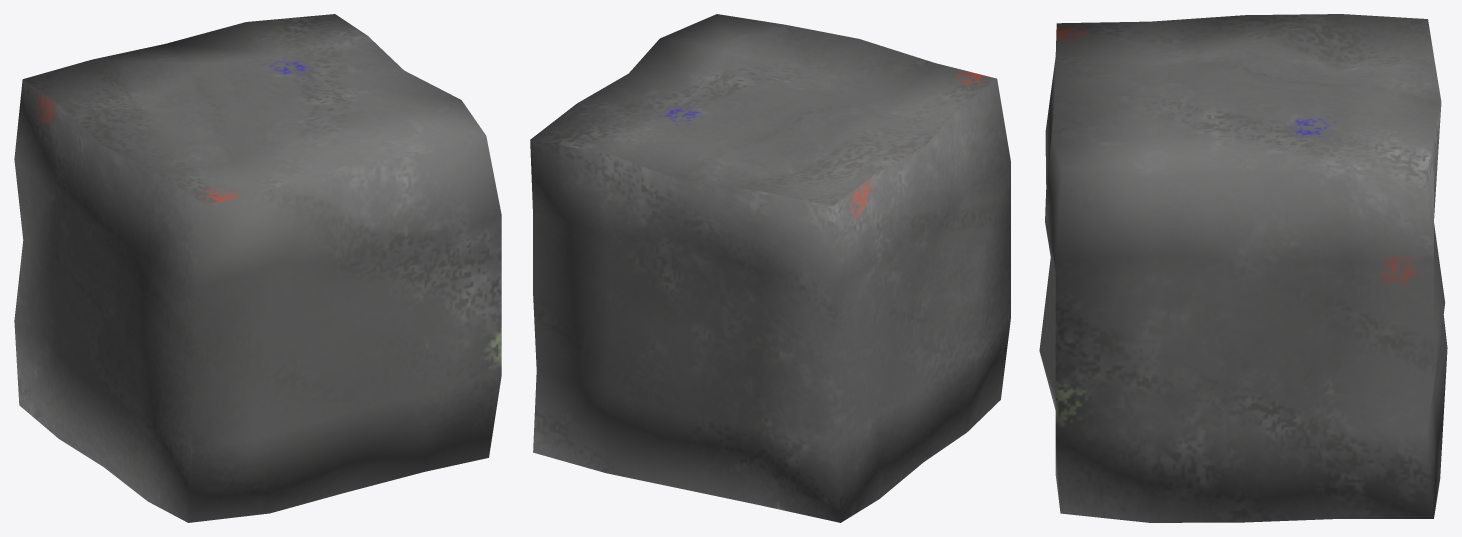
The model's file is Stone_Cube.fbx.
3 views of the same model, side by side, from view 1: azimuth 30°, elevation 25°; view 2: azimuth 150°, elevation 25°; view 3: azimuth 270°, elevation 25° (orthographic). The views are drawn at different scales.
Parts seen in each view (by area): view 1: Stone_Cube; view 2: Stone_Cube; view 3: Stone_Cube.
Boxes of the visible parts, <box> form: Stone_Cube: <box>14,14,501,522</box>; Stone_Cube: <box>530,14,1010,522</box>; Stone_Cube: <box>1039,14,1447,522</box>.
Size of the model in its own units: 2.15 by 2.11 by 2.16.
